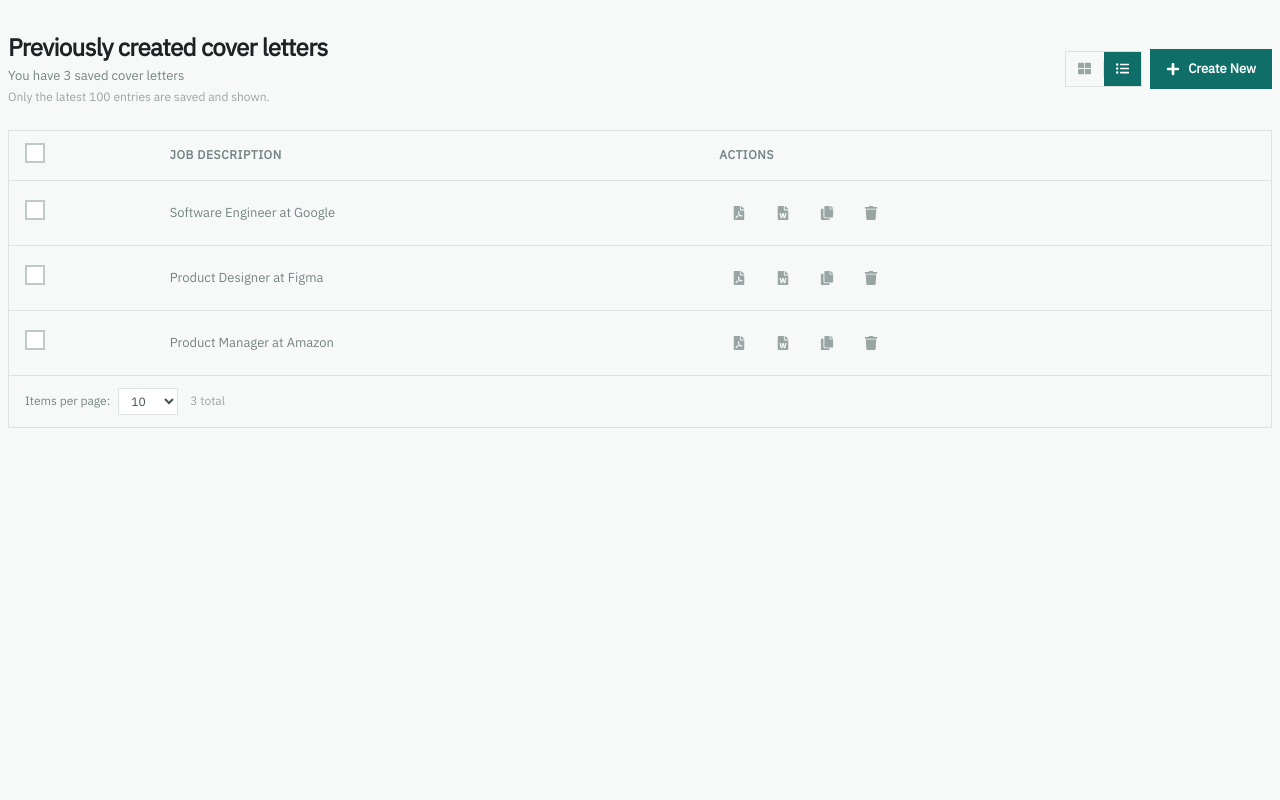
Test: PreviousCoverLettersView — integration › shows single delete confirm modal
Expected: the text "Software Engineer at Google" is shown, [170, 204, 335, 221]
Click the button titled "Delete" in the row of "Software Engineer at Google". click: (871, 212)
box: [851, 192, 891, 232]
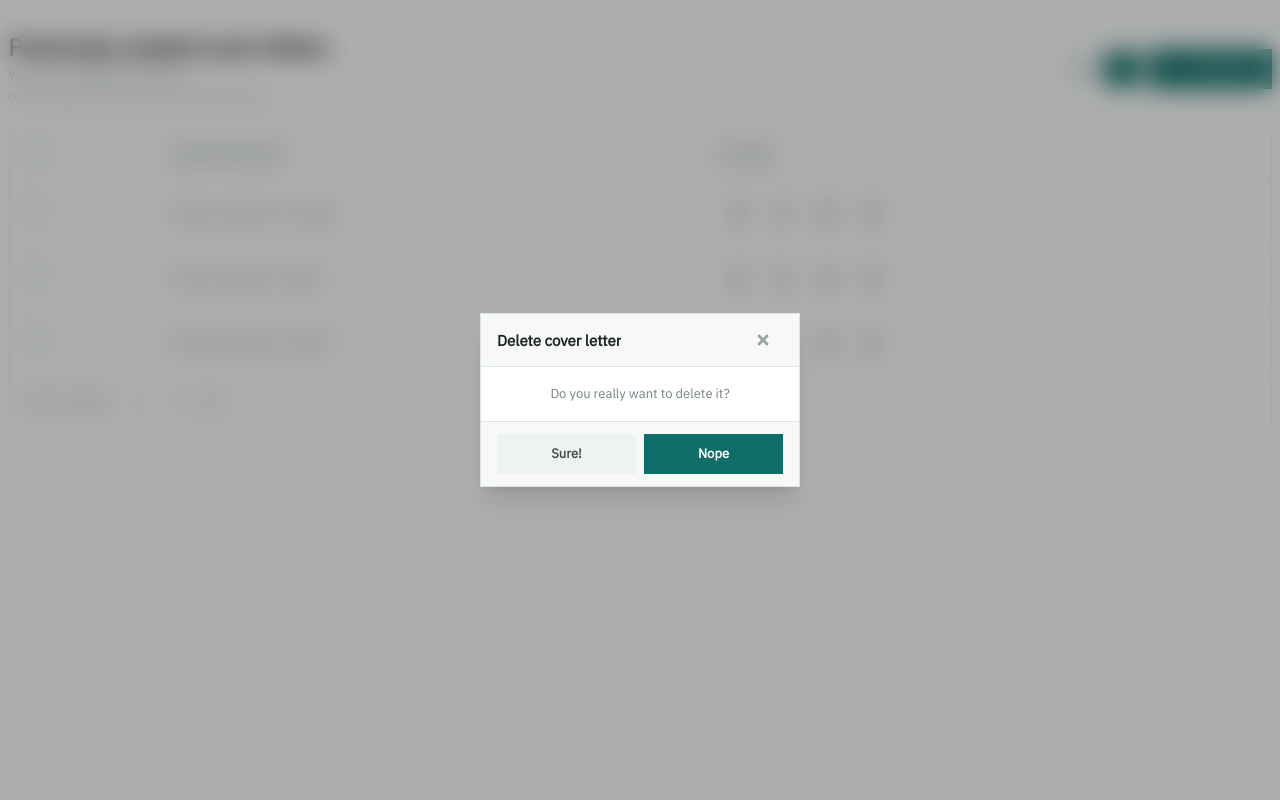
Expected: the heading "Delete cover letter" is shown, [497, 329, 621, 352]
